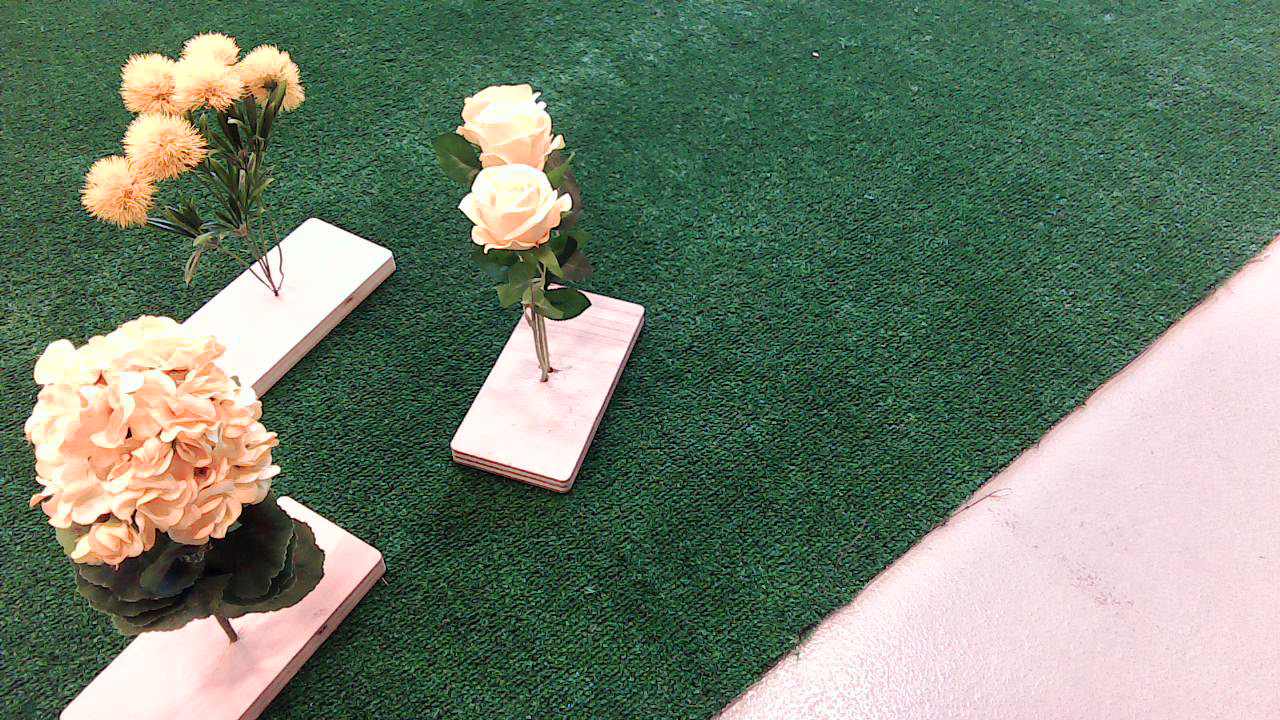dandelion: (34, 40, 333, 280)
geranium: (17, 312, 330, 655)
rose: (424, 68, 643, 343)
